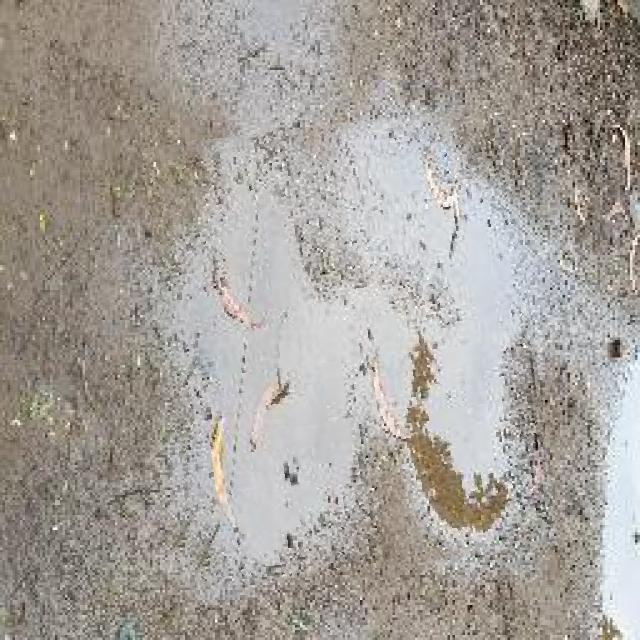puddle: (156, 115, 548, 581)
